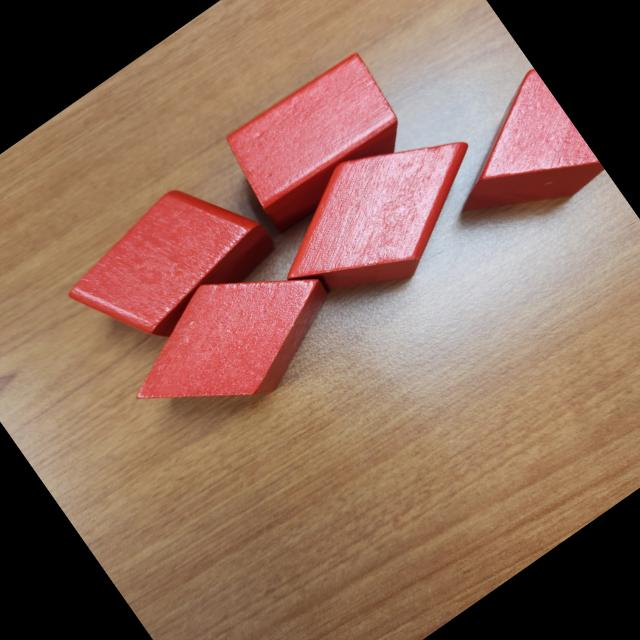red: (248, 93, 516, 337), (100, 223, 362, 461), (48, 156, 285, 372), (208, 43, 418, 237), (419, 60, 609, 251)
